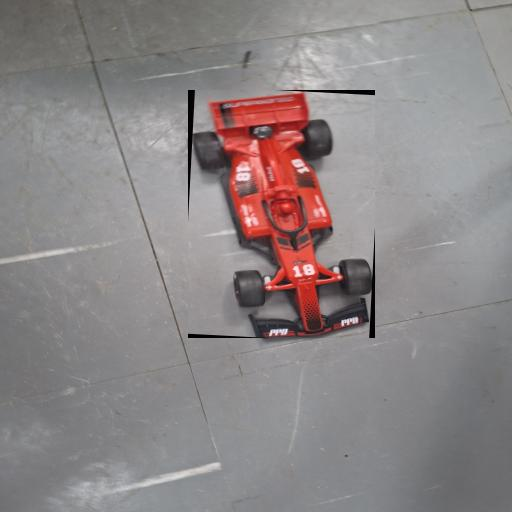carro: (189, 90, 374, 338)
